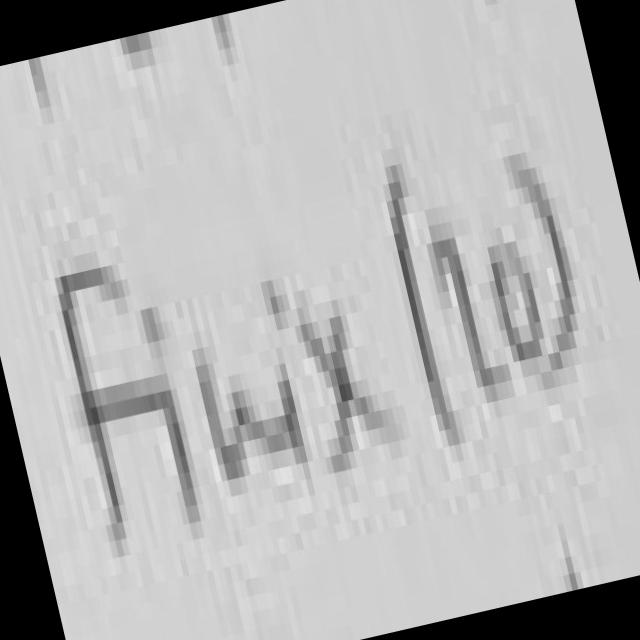0: (474, 214, 562, 390)
2: (407, 180, 532, 446)
F: (15, 176, 188, 568)
i: (239, 222, 342, 554), (125, 268, 217, 550)
n: (178, 318, 306, 556)
x: (277, 232, 419, 540)
